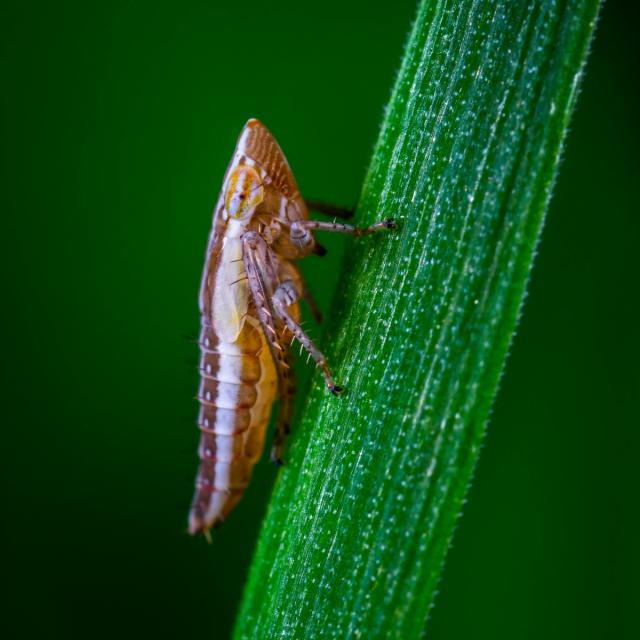Yechan: (160, 106, 410, 542)
